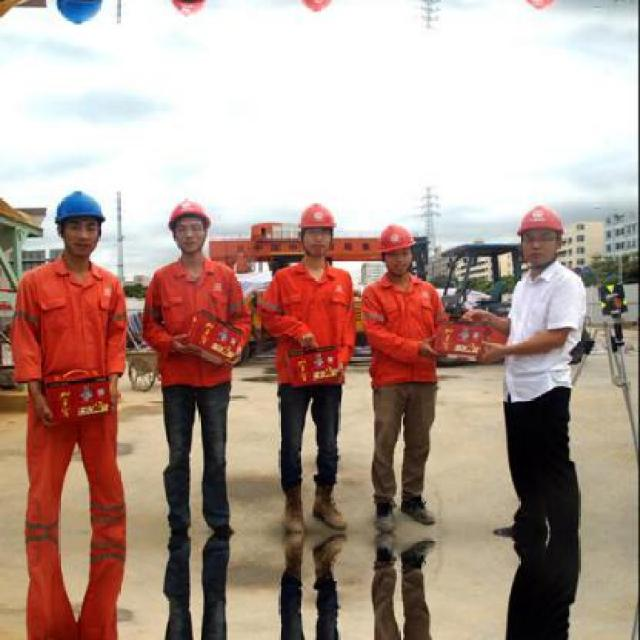helmet: (48, 177, 112, 260), (510, 195, 570, 267), (372, 212, 422, 280), (293, 192, 338, 263), (164, 192, 210, 258), (48, 0, 114, 37), (509, 0, 570, 18), (165, 0, 212, 22), (292, 0, 338, 22)
